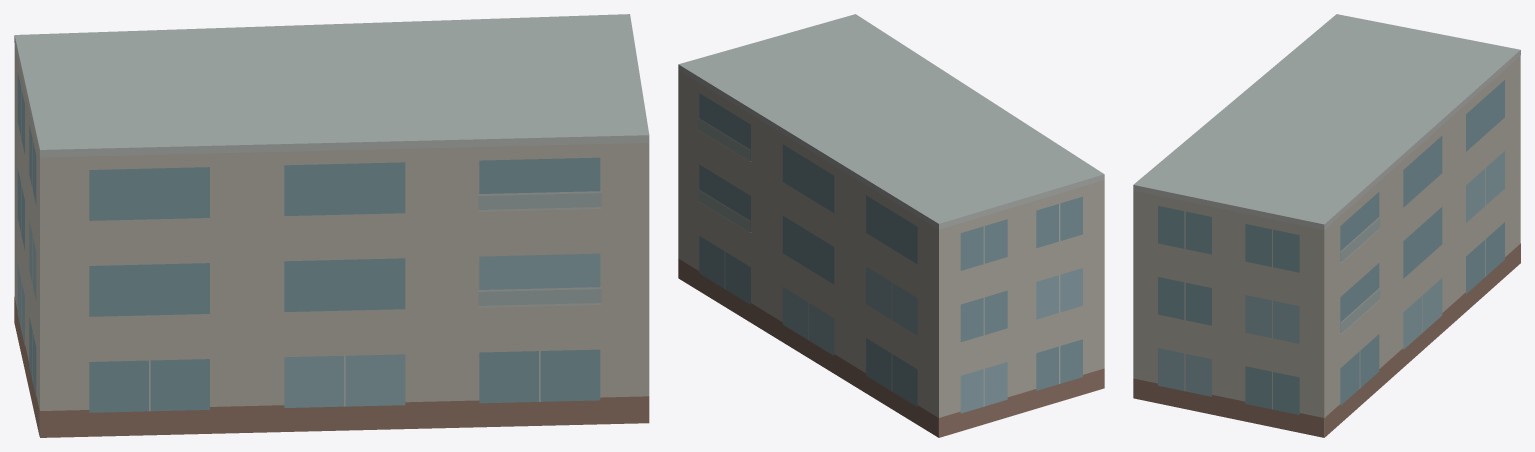
File: survey-upis-32553116.glb
3 views of the same model, side by side, from view 1: azimuth 30°, elevation 25°; view 2: azimuth 150°, elevation 25°; view 3: azimuth 270°, elevation 25° (orthographic). The views are drawn at different scales.
Visible parts, largest first — view 1: survey-upis-32553116.tmp; view 2: survey-upis-32553116.tmp; view 3: survey-upis-32553116.tmp.
Part boxes in pixels (x1=…): survey-upis-32553116.tmp: x1=14, y1=14, x2=649, y2=437; survey-upis-32553116.tmp: x1=678, y1=14, x2=1104, y2=437; survey-upis-32553116.tmp: x1=1133, y1=14, x2=1520, y2=437.
Bounding box in the file's own units: 19.36 × 9.15 × 15.07.
